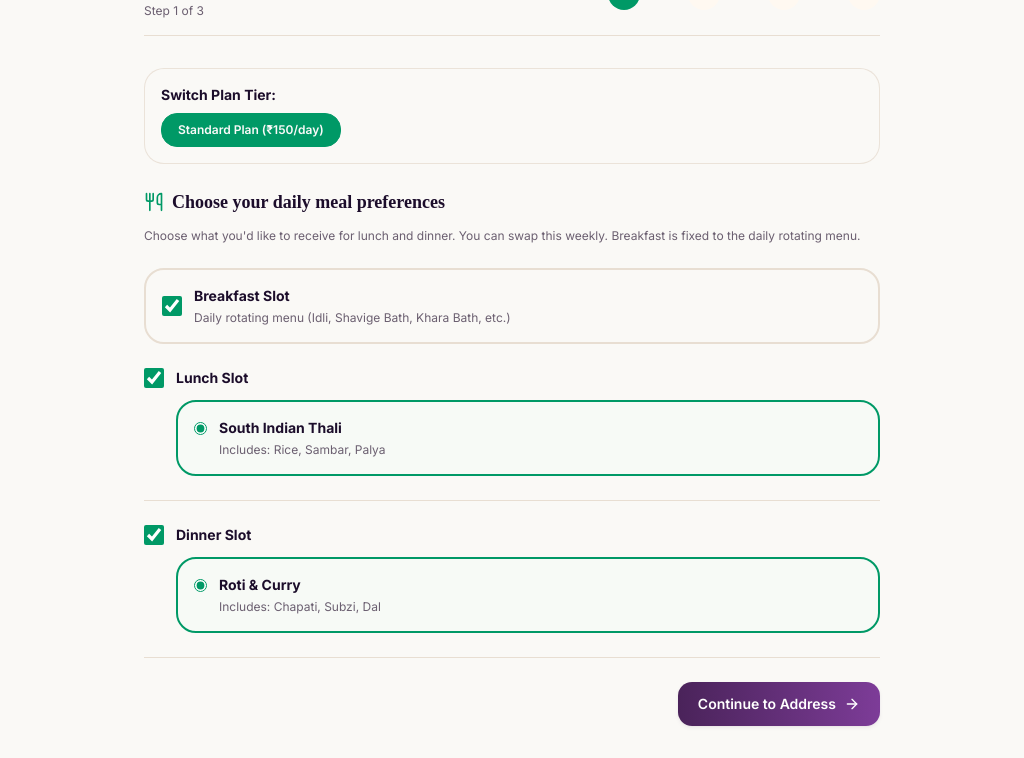
Test: Address & Pincode Confirmation UX (Part 3 & Part 8 Requirements) › clicking a serviceable address explicitly selects it and enables confirmation
The width and height of the screenshot is (1024, 758).
(page scrolled)
Click the button "Continue to Address": click(779, 704) [678,682,880,726]
(page scrolled)
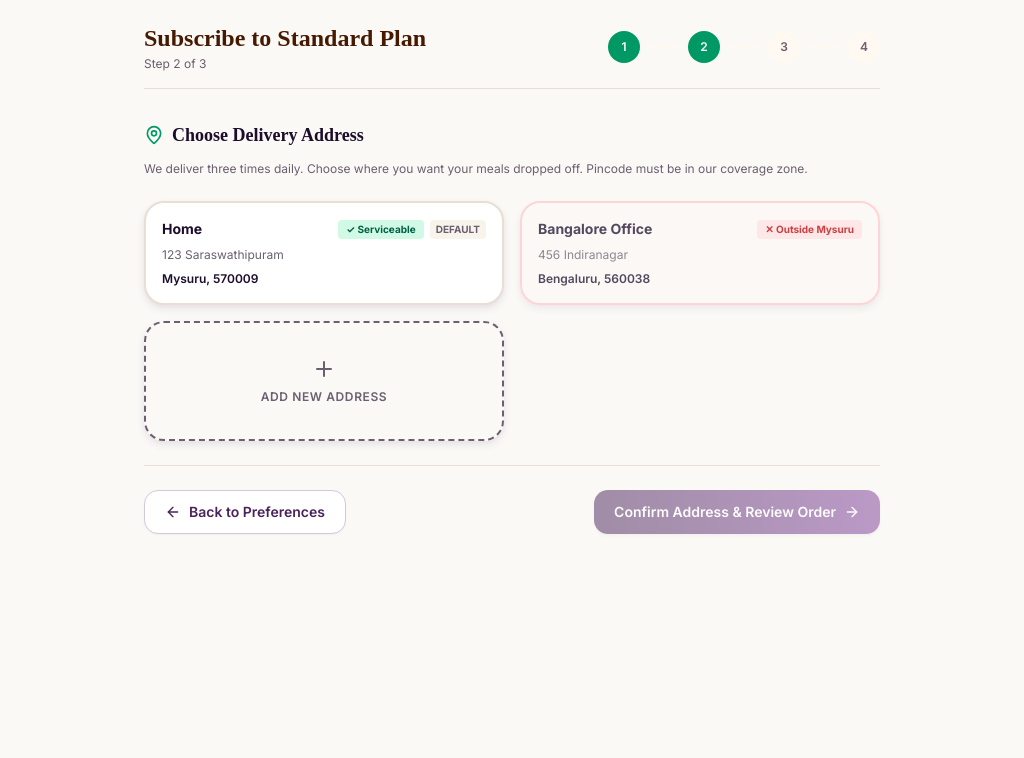
Now the element with class "cursor-pointer" that starts with "Home" is shown
Click the element with class "cursor-pointer" that starts with "Home": click(324, 253) [144,201,504,305]
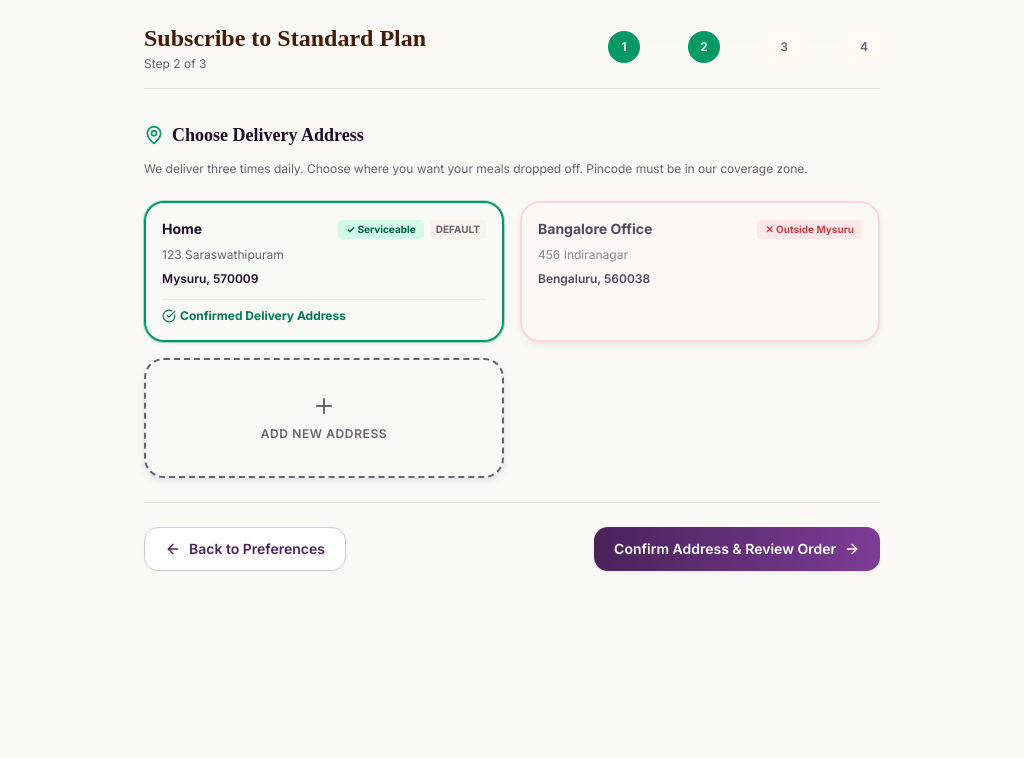
Now the button "Confirm Address & Review Order" is enabled, box [594,527,880,571]
Now the text "Confirmed Delivery Address" is shown, box [162,308,346,324]
